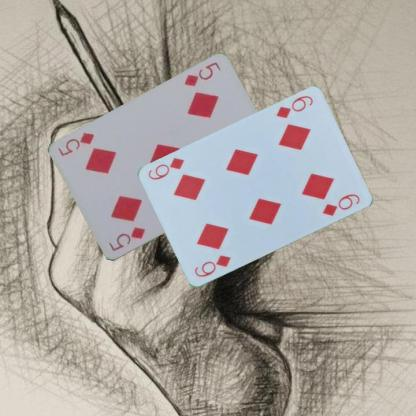5d: (181, 60, 222, 89), (106, 225, 147, 253)
6d: (274, 93, 314, 120), (191, 253, 232, 279)
